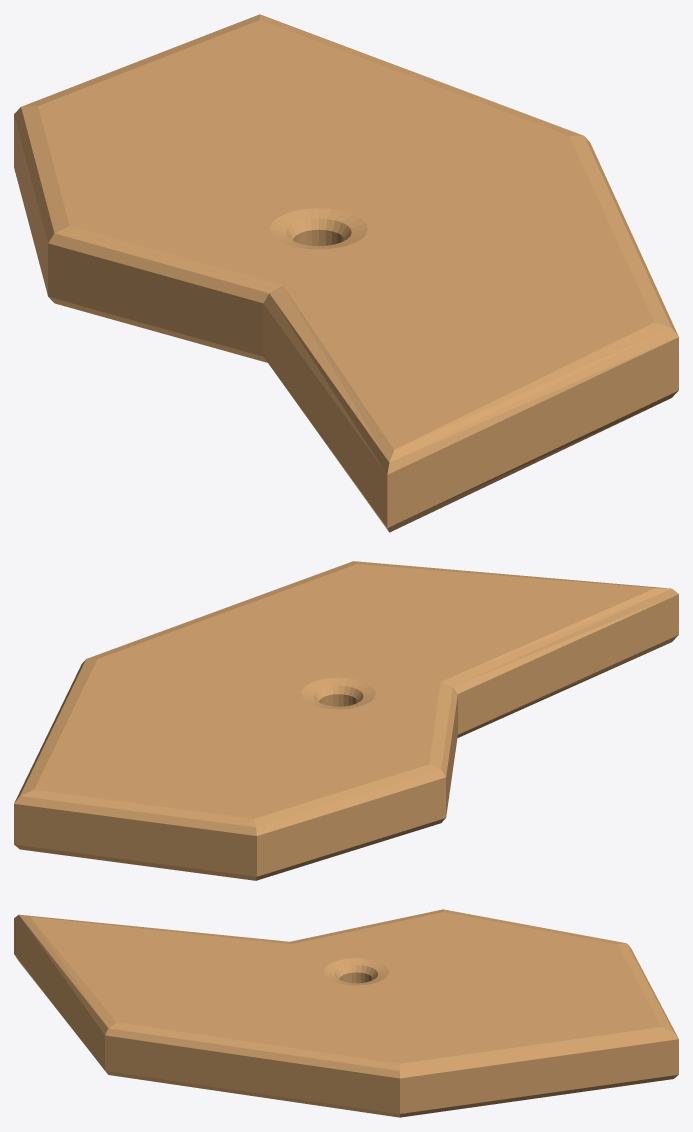
The model's file is kidney-rib-v2.glb.
The picture shows the model from 3 angles, top to bottom: view 1: azimuth 30°, elevation 25°; view 2: azimuth 150°, elevation 25°; view 3: azimuth 270°, elevation 25°; orthographic projection. The views are drawn at different scales.
Visible parts, largest first — view 1: Kidney shaping rib; view 2: Kidney shaping rib; view 3: Kidney shaping rib.
Part boxes in pixels (x1,y1,x2,y2): Kidney shaping rib: (14, 14, 678, 532); Kidney shaping rib: (14, 561, 678, 880); Kidney shaping rib: (14, 909, 678, 1117).
Bounding box in the file's own units: 0.1801 × 0.026 × 0.3055.
